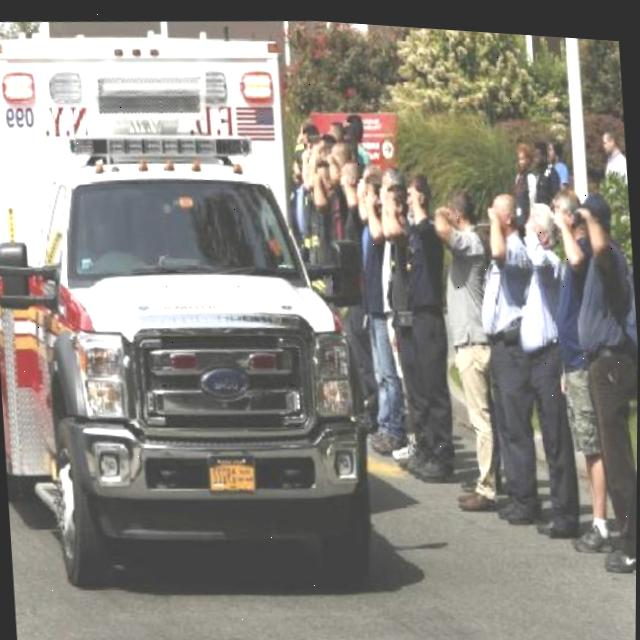emergency: (0, 5, 388, 608)
